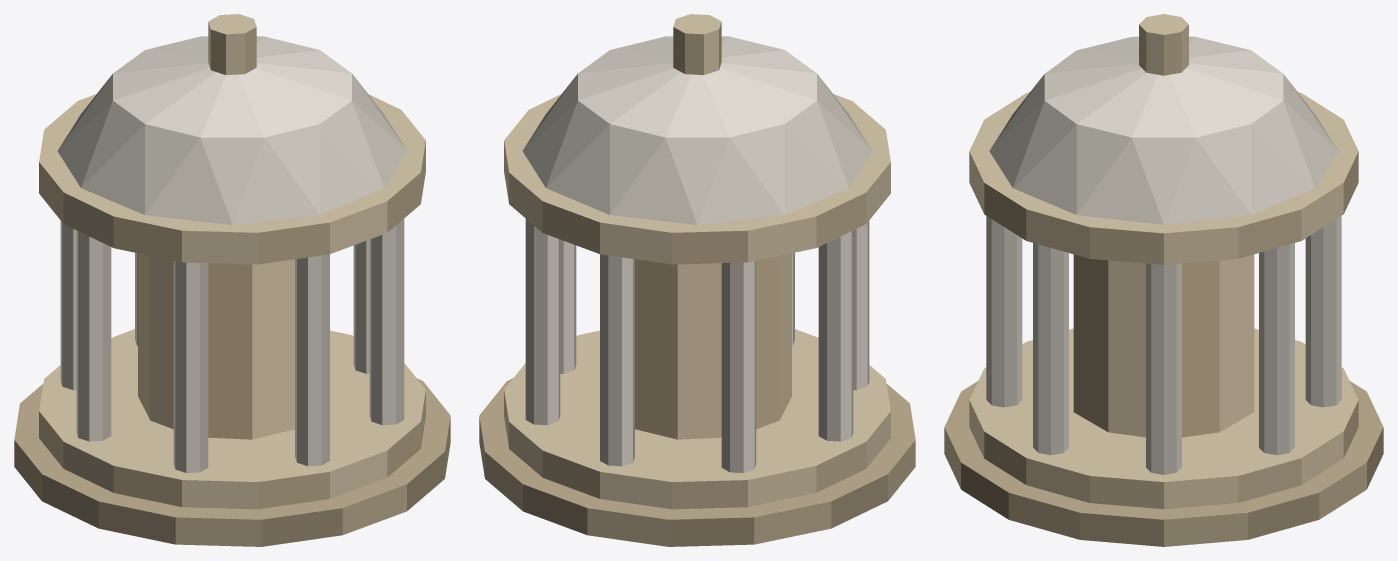
File: tholos.glb
3 views of the same model, side by side, from view 1: azimuth 30°, elevation 25°; view 2: azimuth 150°, elevation 25°; view 3: azimuth 270°, elevation 25° (orthographic).
Visible parts, largest first — view 1: tholos2; view 2: tholos2; view 3: tholos2.
Part boxes in pixels (x1,y1,x2,y2): tholos2: (14, 14, 450, 546); tholos2: (479, 14, 915, 546); tholos2: (944, 14, 1383, 546).
Size of the model in its own units: 4.4 by 4.75 by 4.4.
